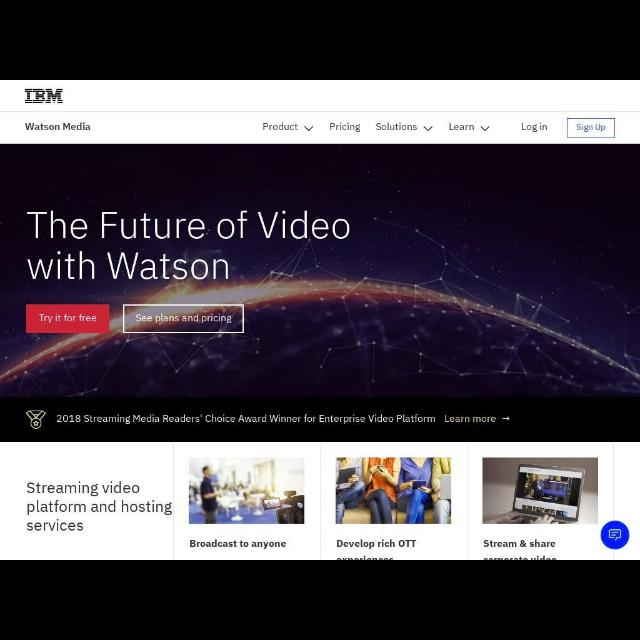backgroundimage: (2, 144, 640, 440)
button: (603, 520, 627, 548)
icon: (26, 405, 46, 431), (609, 528, 623, 540), (421, 122, 433, 132), (303, 124, 315, 132), (481, 124, 491, 132), (502, 414, 511, 422)
image: (189, 456, 305, 524), (336, 456, 452, 524), (482, 458, 598, 524), (24, 86, 64, 104)
spinner: (375, 120, 433, 132), (262, 120, 316, 132), (449, 120, 491, 134)
text: (27, 208, 349, 242), (25, 479, 173, 531), (25, 252, 228, 282), (56, 413, 436, 425), (136, 312, 232, 324), (190, 538, 286, 548), (40, 312, 96, 326), (337, 540, 415, 550), (482, 538, 556, 548), (443, 414, 497, 424), (26, 122, 90, 130), (329, 120, 361, 132), (377, 122, 418, 130), (522, 121, 548, 133), (576, 122, 606, 132), (263, 123, 299, 131), (450, 123, 474, 131), (485, 557, 557, 559), (338, 556, 390, 558)
textbutton: (122, 304, 244, 332), (24, 305, 108, 331), (566, 117, 616, 139)
toolbar: (2, 114, 638, 142)
